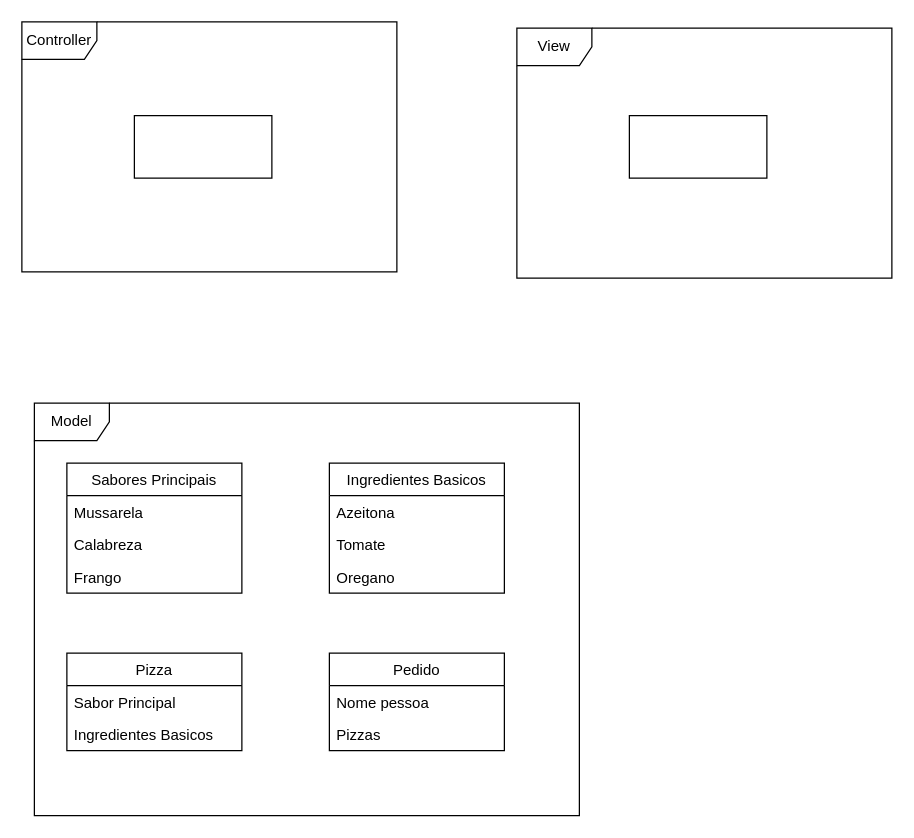
Image size: 914x838. Some labels were removed from this diagram. Here are the shapes that lost their labels. From the top down, the centre of each, then its label:
At (202,146): "Receber Pedidos".
At (697,146): "Cardapio Nome das pizzas Ingredientes".
